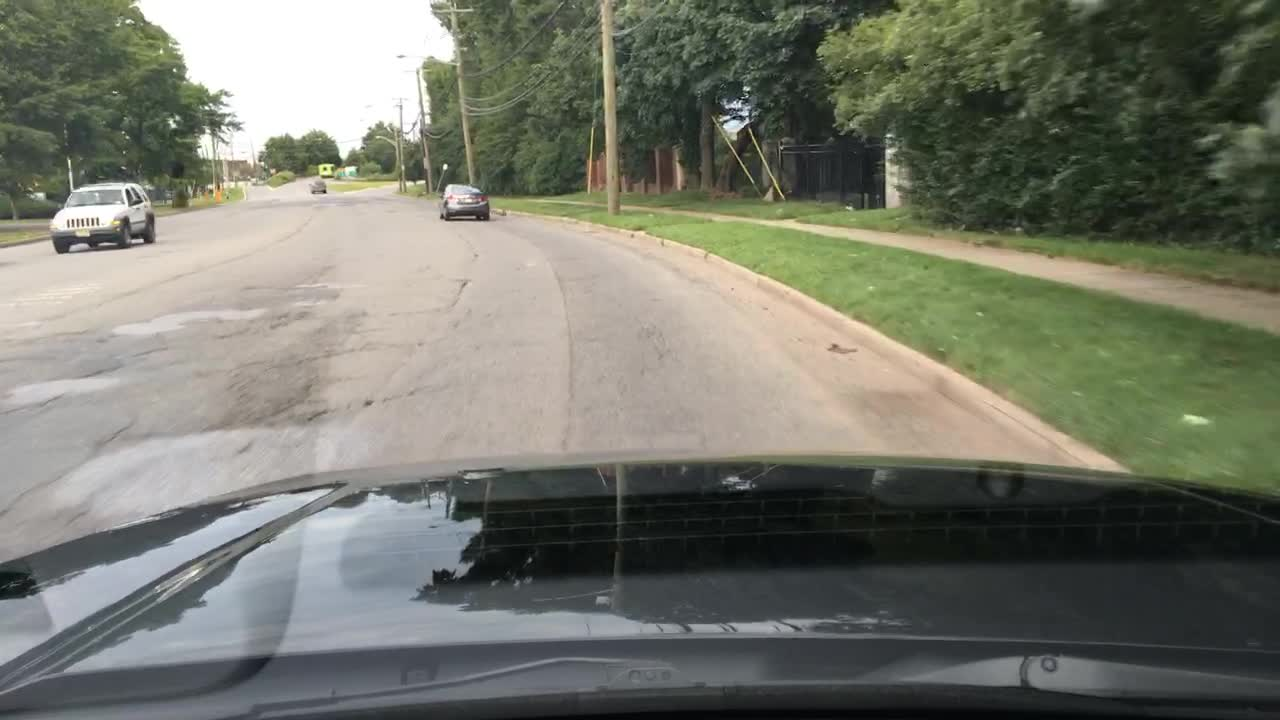car: (49, 179, 153, 253), (437, 184, 489, 224), (310, 179, 329, 197)
truck: (315, 160, 334, 179)
